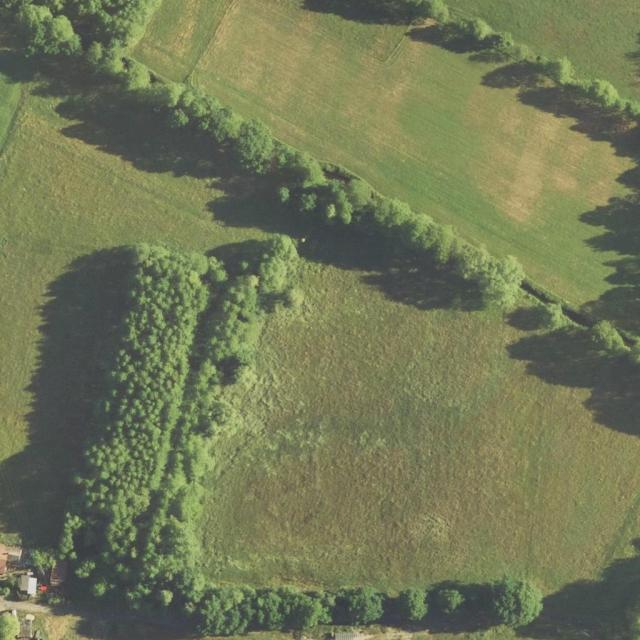building: (15, 611, 39, 640)
metalled_road: (0, 596, 108, 619)
